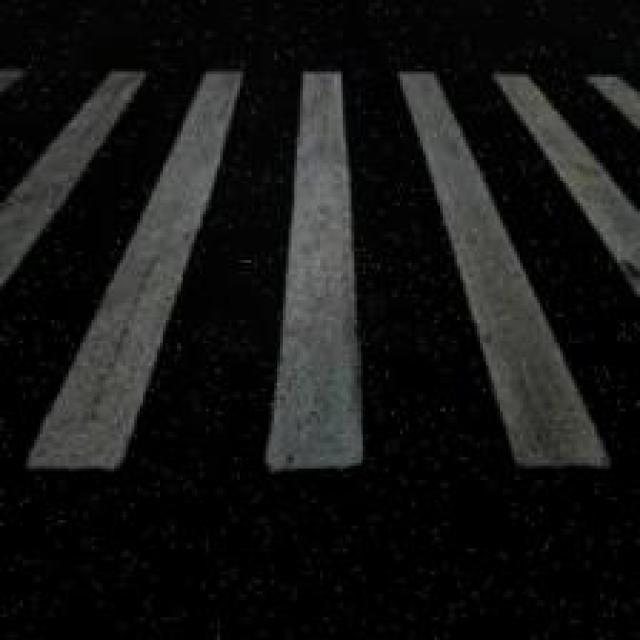crosswalk: (11, 70, 638, 479)
